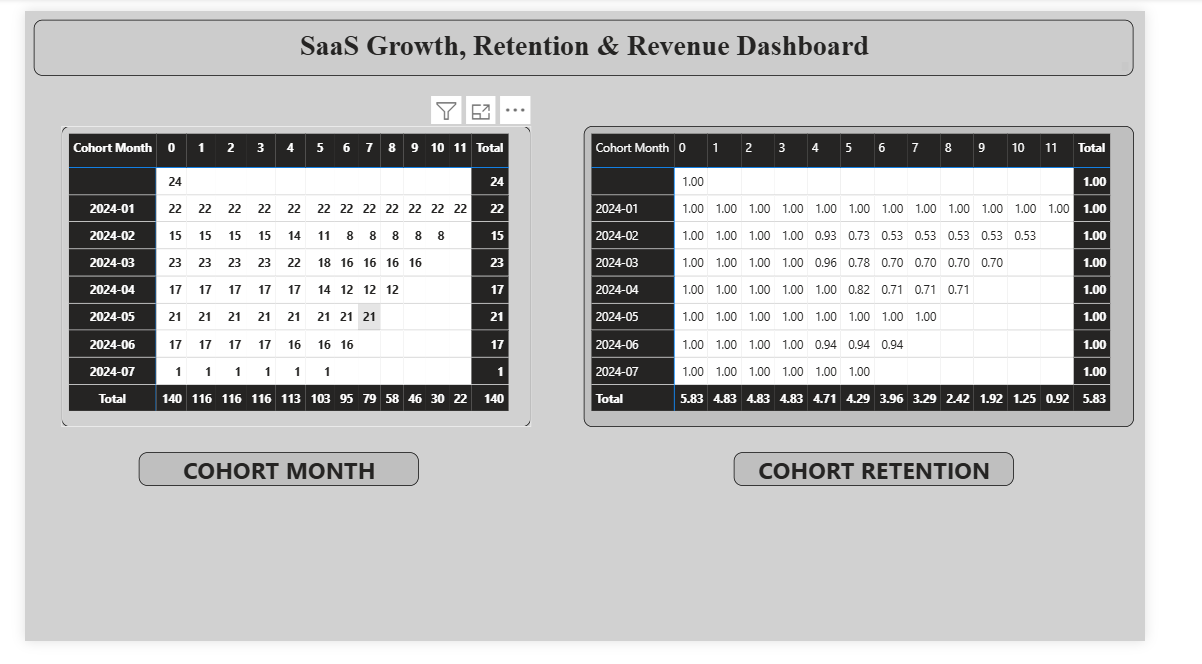

What the dashboard file says about the page in this screenshot:
{"tool":"powerbi","page":{"name":"Page 3","canvas":[1280,720],"ordinal":2},"visuals":[{"type":"pivotTable","fields":{"Columns":["COHORT INDEX.Value"],"Values":["public customer_subscriptions.Cohort Active Users"],"Rows":["public customer_subscriptions.Cohort Month"]},"box":[41.4,131.4,537.1,344.3],"z":0},{"type":"textbox","title":"SaaS Growth, Retention & Revenue Dashboard","box":[10,10,1257.1,64.3],"z":1000},{"type":"pivotTable","fields":{"Rows":["public customer_subscriptions.Cohort Month"],"Values":["public customer_subscriptions.Cohort Retention %"],"Columns":["COHORT INDEX.Value"]},"box":[638.6,131.4,628.6,344.3],"z":2000},{"type":"textbox","title":"COHORT MONTH","box":[130,504.3,320,38.6],"z":3000},{"type":"textbox","title":"COHORT RETENTION","box":[810,504.3,320,38.6],"z":4000}]}

Visuals, with their boxes in screenshot pixels (x1, y1, x2, y2), scaled from the page's 1280x720 canvas onto the 1202x664 screenshot:
pivotTable - COHORT INDEX.Value x public customer_subscriptions.Cohort Active Users: BBox(39, 121, 543, 439)
"SaaS Growth, Retention & Revenue Dashboard" textbox: BBox(9, 9, 1190, 69)
pivotTable - public customer_subscriptions.Cohort Month x public customer_subscriptions.Cohort Retention %: BBox(600, 121, 1190, 439)
"COHORT MONTH" textbox: BBox(122, 465, 423, 501)
"COHORT RETENTION" textbox: BBox(761, 465, 1061, 501)
